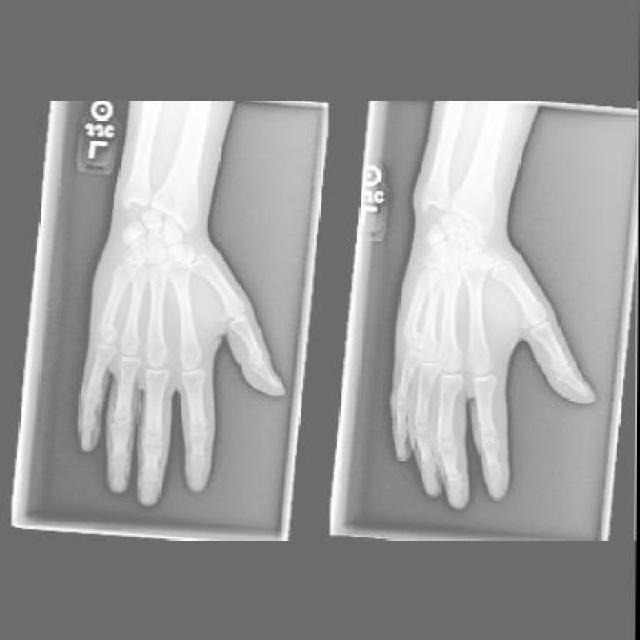Fracture: (94, 317, 117, 345), (399, 325, 422, 348)
